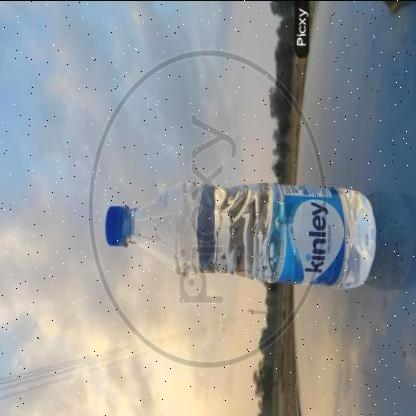Plastic Bottle: (105, 180, 377, 288)
